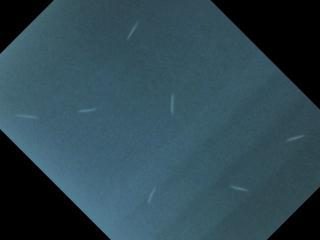scratch: (224, 179, 254, 199), (121, 16, 141, 42), (12, 108, 42, 124), (279, 131, 307, 144), (166, 90, 179, 118), (76, 102, 98, 118), (145, 183, 159, 206)
